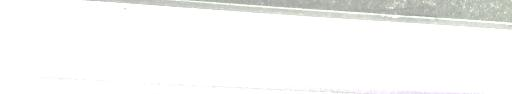letter: (176, 27, 204, 71), (226, 31, 254, 74), (375, 39, 403, 82), (400, 42, 428, 84), (38, 17, 62, 63), (278, 35, 306, 74), (94, 21, 120, 63), (122, 23, 148, 65), (304, 37, 330, 78), (450, 42, 476, 83), (426, 42, 452, 82), (67, 21, 93, 61), (150, 25, 174, 67), (254, 32, 278, 73), (353, 40, 377, 81), (204, 29, 224, 72), (332, 38, 352, 79)
